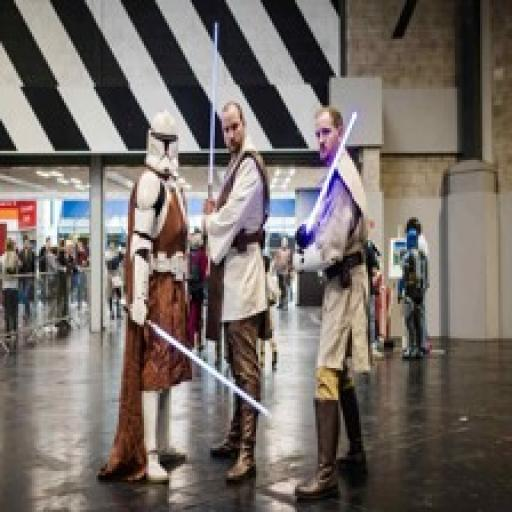lightsaber: (120, 296, 278, 420), (289, 113, 359, 252), (198, 18, 226, 210)
